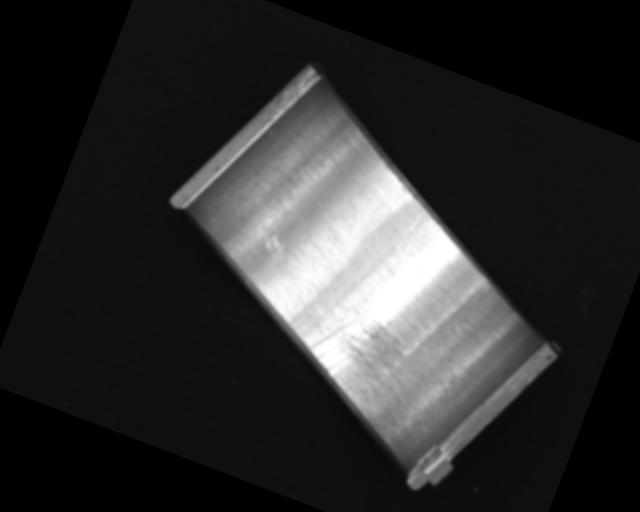bruise: (258, 231, 296, 266)
nick: (395, 209, 422, 253)
scratch: (288, 294, 423, 437)
